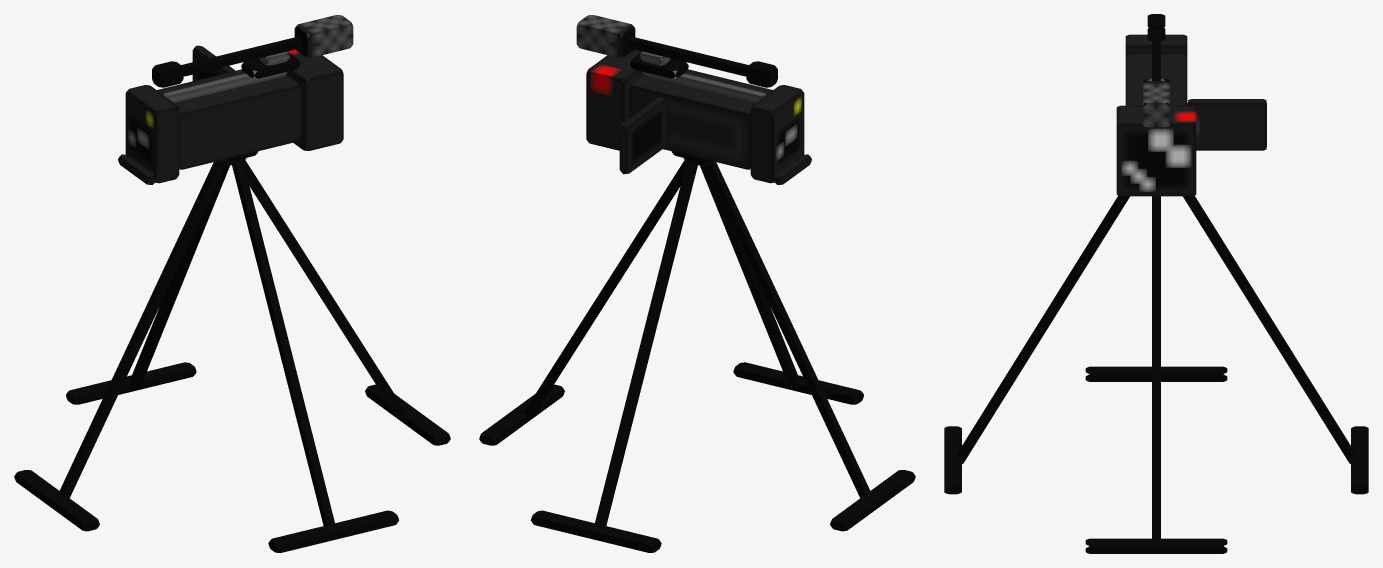
Rendered from Camescope.fbx.
3 views of the same model, side by side, from view 1: azimuth 30°, elevation 25°; view 2: azimuth 150°, elevation 25°; view 3: azimuth 270°, elevation 25° (orthographic).
Visible parts, largest first — view 1: cube; view 2: cube; view 3: cube.
Part boxes in pixels (box(x1,y1,x2,y2)): cube: box(14, 15, 450, 552); cube: box(479, 15, 915, 552); cube: box(944, 14, 1368, 553).
Size of the model in its own units: 300 by 325 by 300.
Materials: 1 (1 with a texture image).
